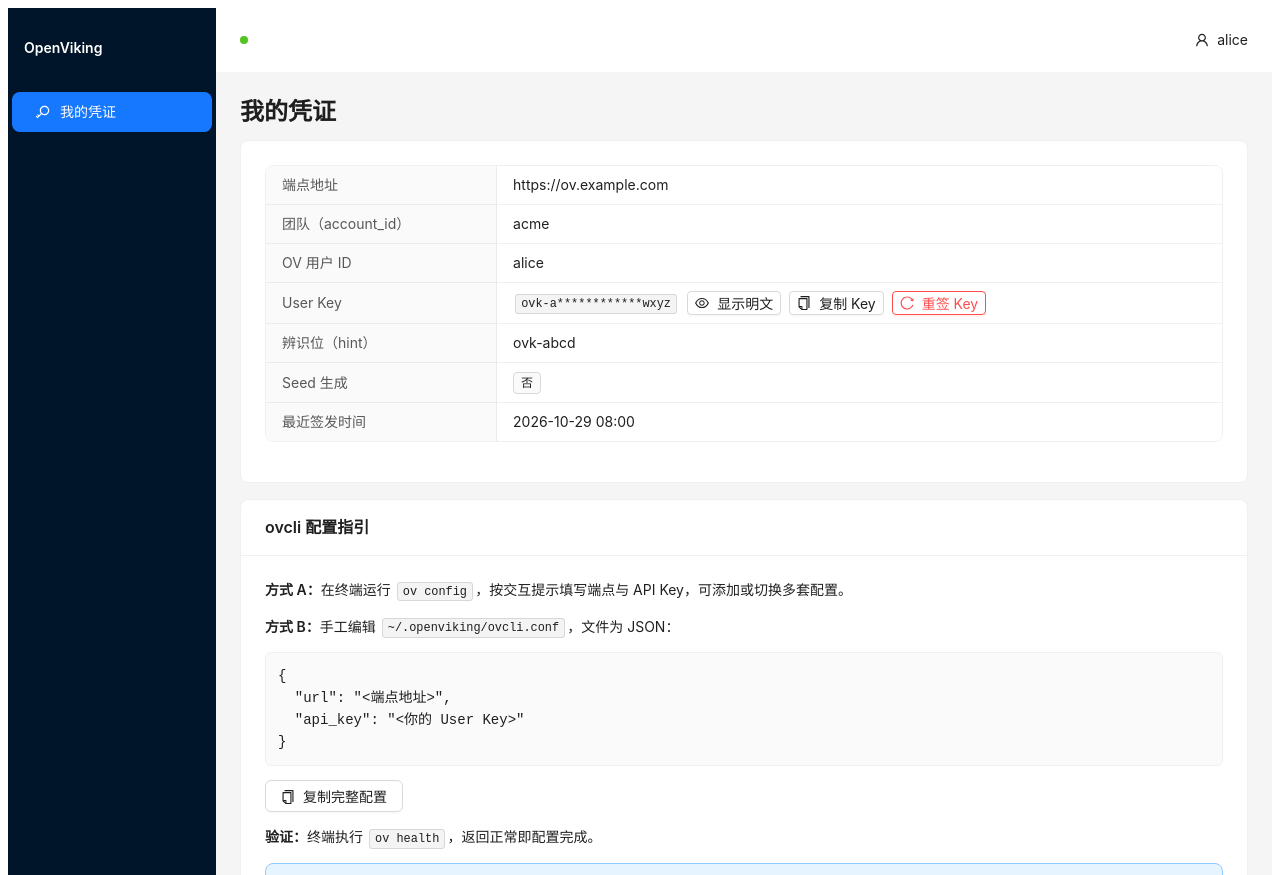
Test: CredentialsPage › 点显示调用 reveal 取明文并展示；隐藏不再发请求
The width and height of the screenshot is (1280, 875).
Expected: the text "ovk-a************wxyz" is shown, [515, 294, 677, 314]
# 带图标按钮的可访问名含图标 aria-label 前缀（如 "eye 显示明文"），故用子串匹配。
Click the button "显示明文": {"x": 734, "y": 303} [687, 291, 781, 315]
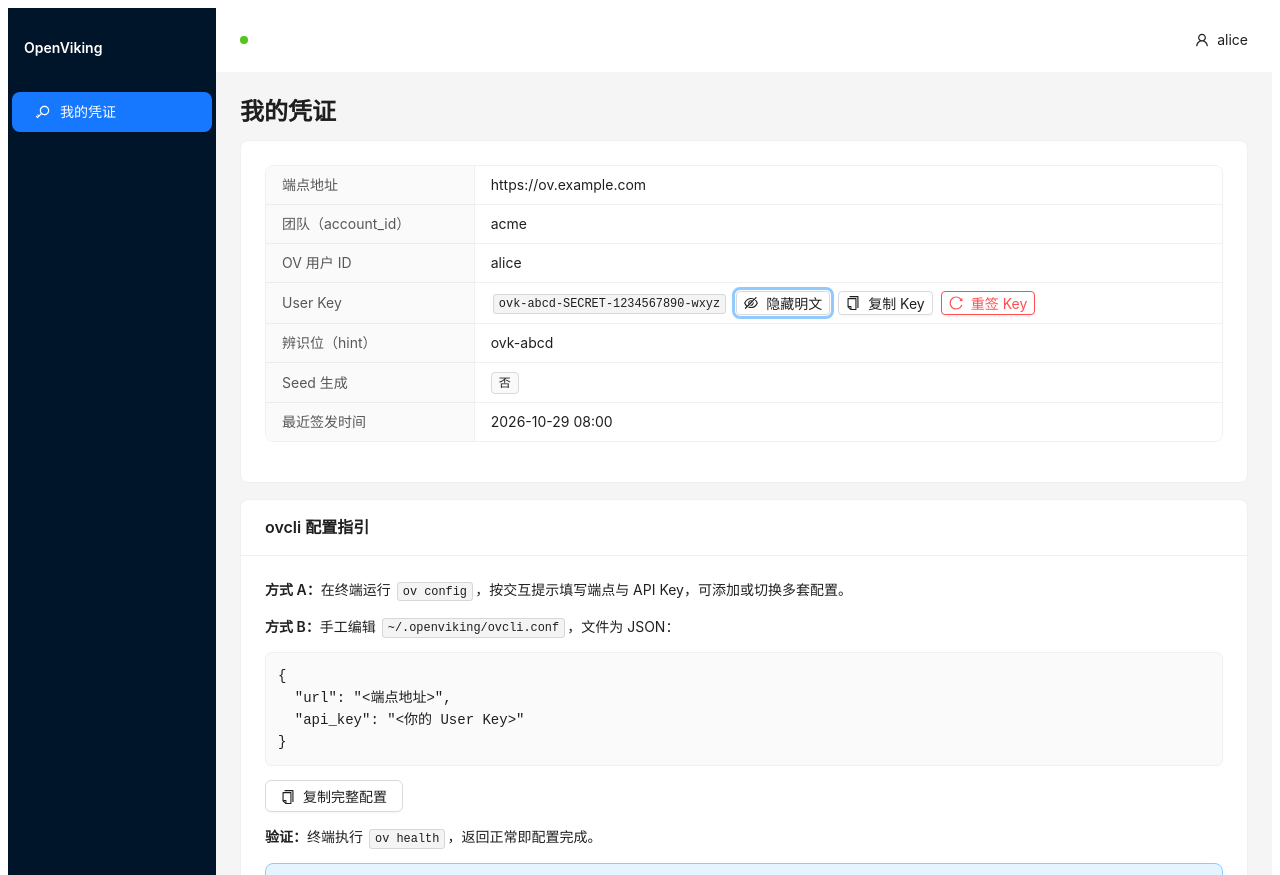
Expected: the text "ovk-abcd-SECRET-1234567890-wxyz" is shown, [493, 294, 726, 314]
Click the button "隐藏明文": {"x": 783, "y": 303} [736, 291, 830, 315]
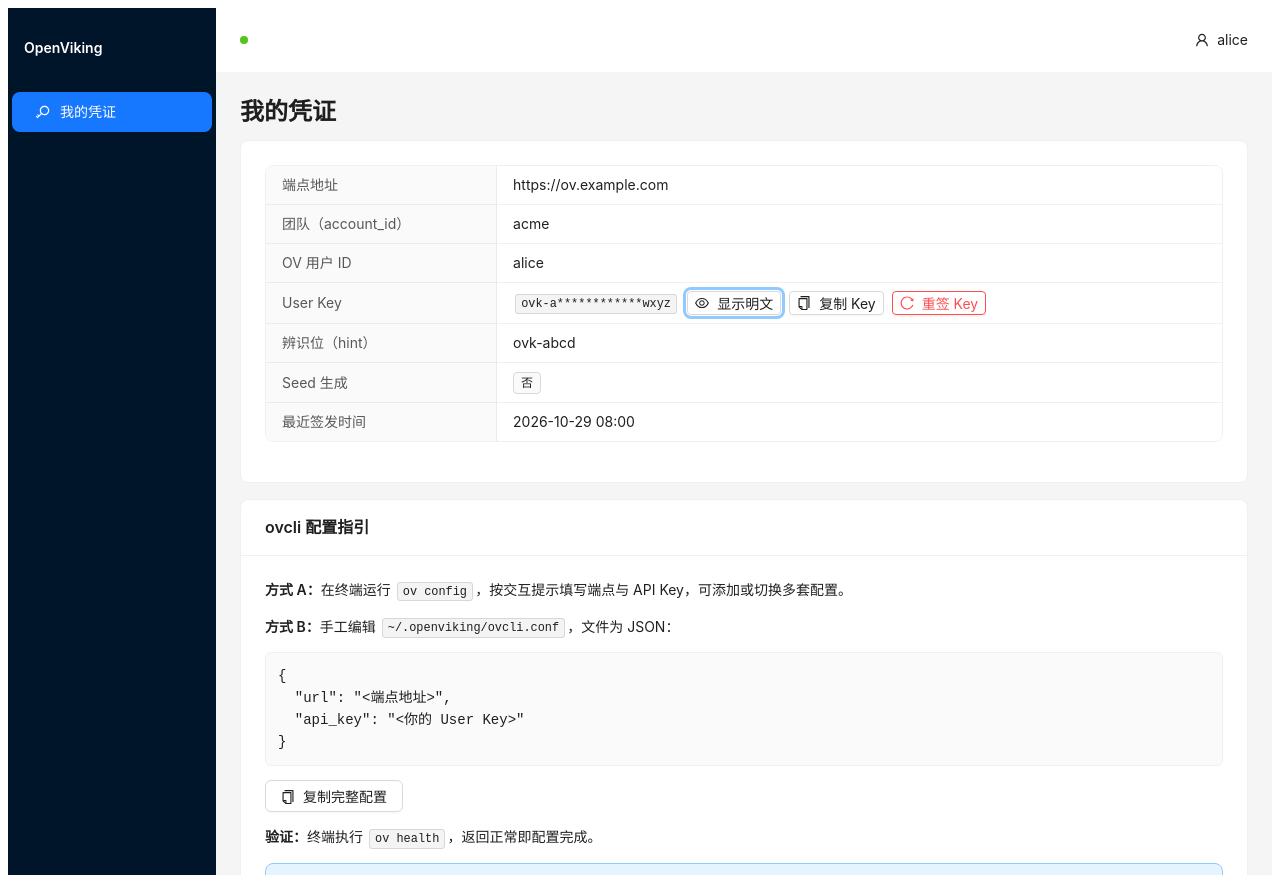
Expected: the text "ovk-a************wxyz" is shown, [515, 294, 677, 314]
Expected: the text "ovk-abcd-SECRET-1234567890-wxyz" is gone
